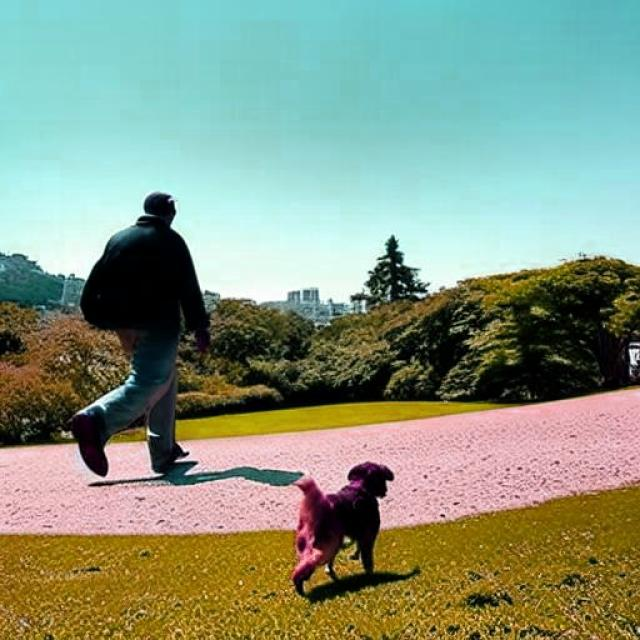Unleashed_Dog: (118, 325, 395, 597)
